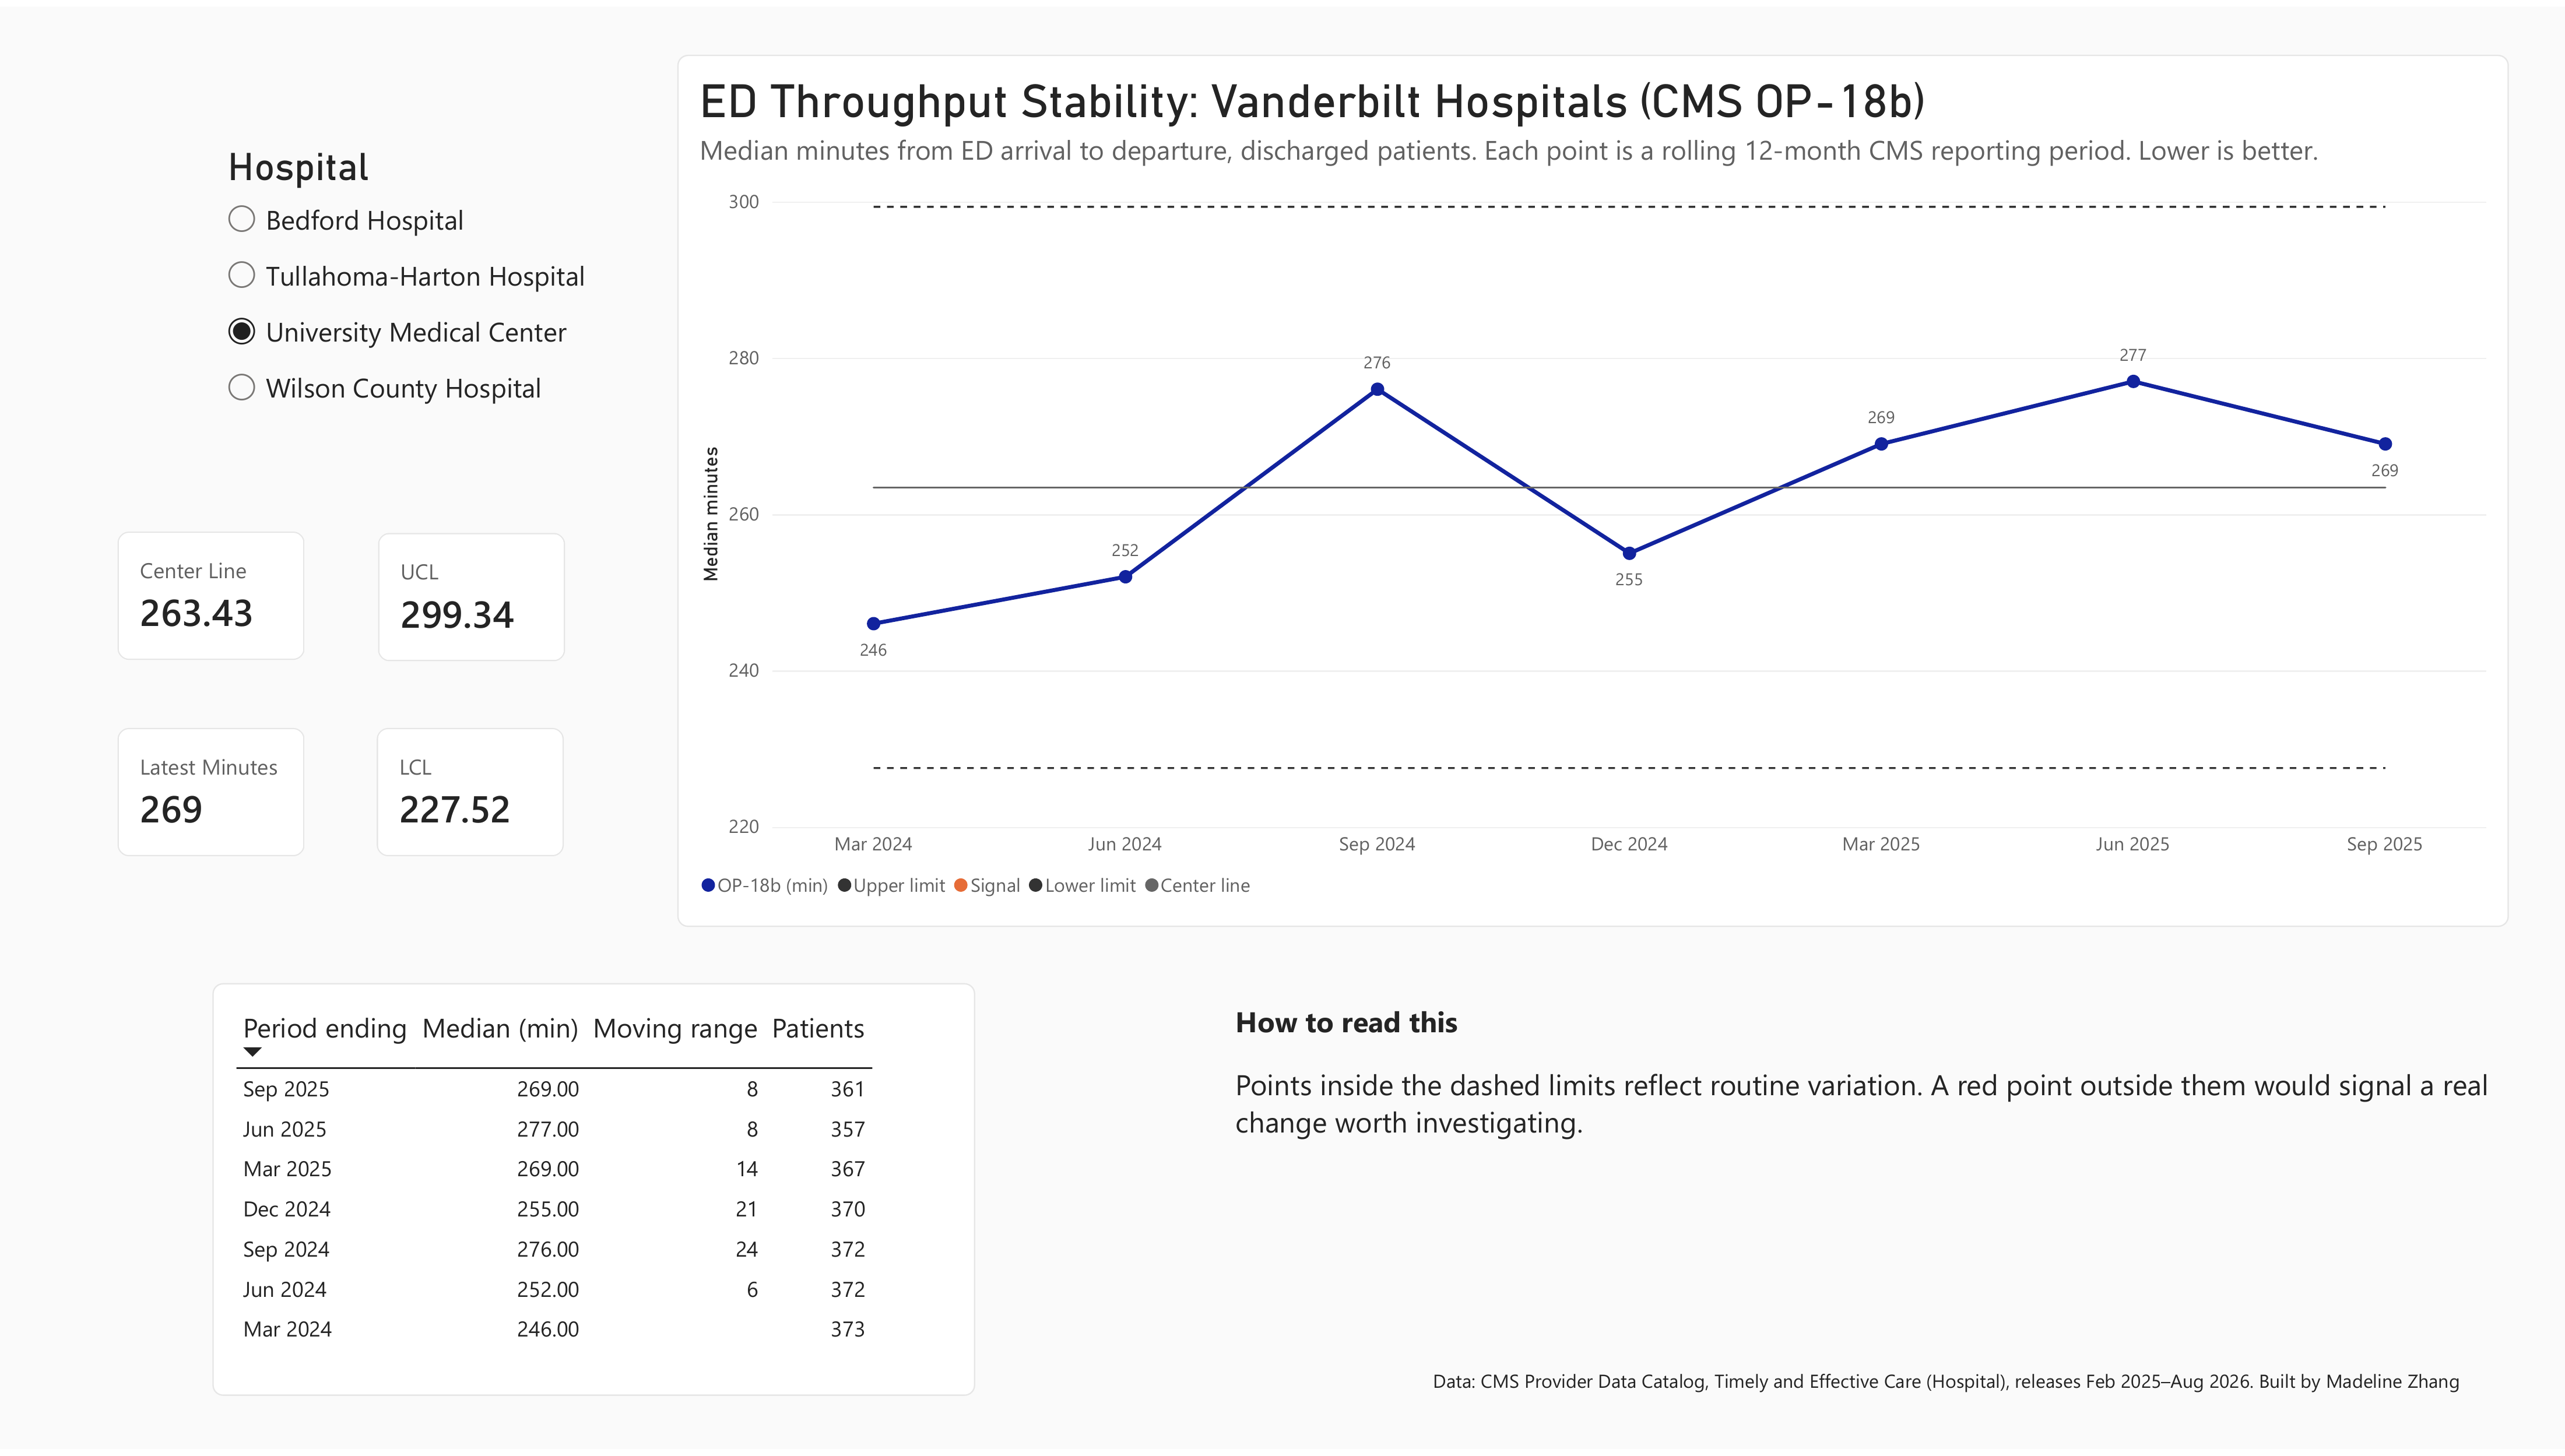

This screenshot's page, from the dashboard's own definition file:
{"tool":"powerbi","page":{"name":"Control Chart","canvas":[1920,1080],"ordinal":0},"visuals":[{"type":"slicer","fields":{"Values":["op18b.hospital"]},"box":[163.3,102.6,280.3,226.8],"z":0},{"type":"lineChart","title":"ED Throughput Stability: Vanderbilt Hospitals (CMS OP-18b)","fields":{"Category":["op18b.period_label"],"Y":["op18b.Median Minutes","op18b.UCL","op18b.Signal Point","op18b.LCL","op18b.Center Line"]},"box":[507.1,36.1,1371,653],"z":1000},{"type":"cardVisual","fields":{"Data":["op18b.Center Line"]},"box":[88.1,393,140.1,96.8],"z":1001},{"type":"cardVisual","fields":{"Data":["op18b.UCL"]},"box":[283.2,394.4,140.1,96.8],"z":1002},{"type":"cardVisual","fields":{"Data":["op18b.LCL"]},"box":[281.7,540.3,140.1,96.8],"z":1003},{"type":"cardVisual","fields":{"Data":["op18b.Latest Minutes"]},"box":[88.1,540.3,140.1,96.8],"z":1004},{"type":"textbox","box":[1073.4,1018.5,828.5,43],"z":1005},{"type":"tableEx","fields":{"Values":["op18b.period_label","op18b.Median Minutes","Sum(op18b.MovingRange)","Sum(op18b.patients)"]},"box":[158.9,731,570.7,309.2],"z":1006},{"type":"textbox","box":[924.6,745.5,939.1,199.4],"z":1007}]}

Visuals, with their boxes in screenshot pixels (x1, y1, x2, y2), scaled from the page's 1920x1080 canvas onto the 2565x1456 screenshot:
slicer - op18b.hospital: {"left": 218, "top": 138, "right": 593, "bottom": 444}
"ED Throughput Stability: Vanderbilt Hospitals (CMS OP-18b)" lineChart: {"left": 677, "top": 48, "right": 2509, "bottom": 929}
cardVisual - op18b.Center Line: {"left": 118, "top": 530, "right": 305, "bottom": 660}
cardVisual - op18b.UCL: {"left": 378, "top": 532, "right": 565, "bottom": 662}
cardVisual - op18b.LCL: {"left": 377, "top": 729, "right": 564, "bottom": 859}
cardVisual - op18b.Latest Minutes: {"left": 118, "top": 729, "right": 305, "bottom": 859}
textbox: {"left": 1434, "top": 1373, "right": 2541, "bottom": 1431}
tableEx - op18b.period_label x op18b.Median Minutes: {"left": 212, "top": 986, "right": 975, "bottom": 1402}
textbox: {"left": 1235, "top": 1005, "right": 2490, "bottom": 1274}
